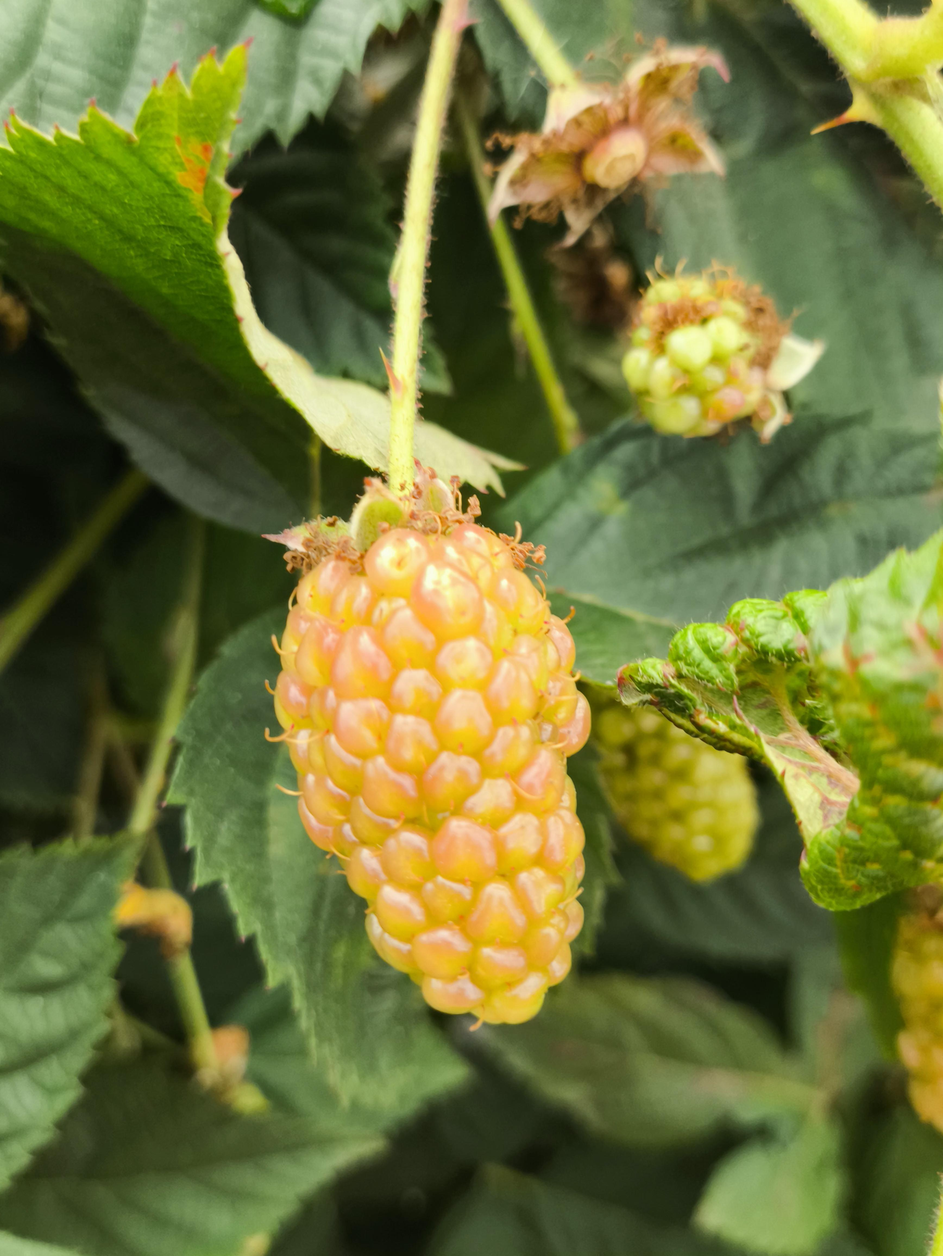verde: (277, 504, 589, 1017), (622, 267, 822, 440), (590, 688, 759, 881)
